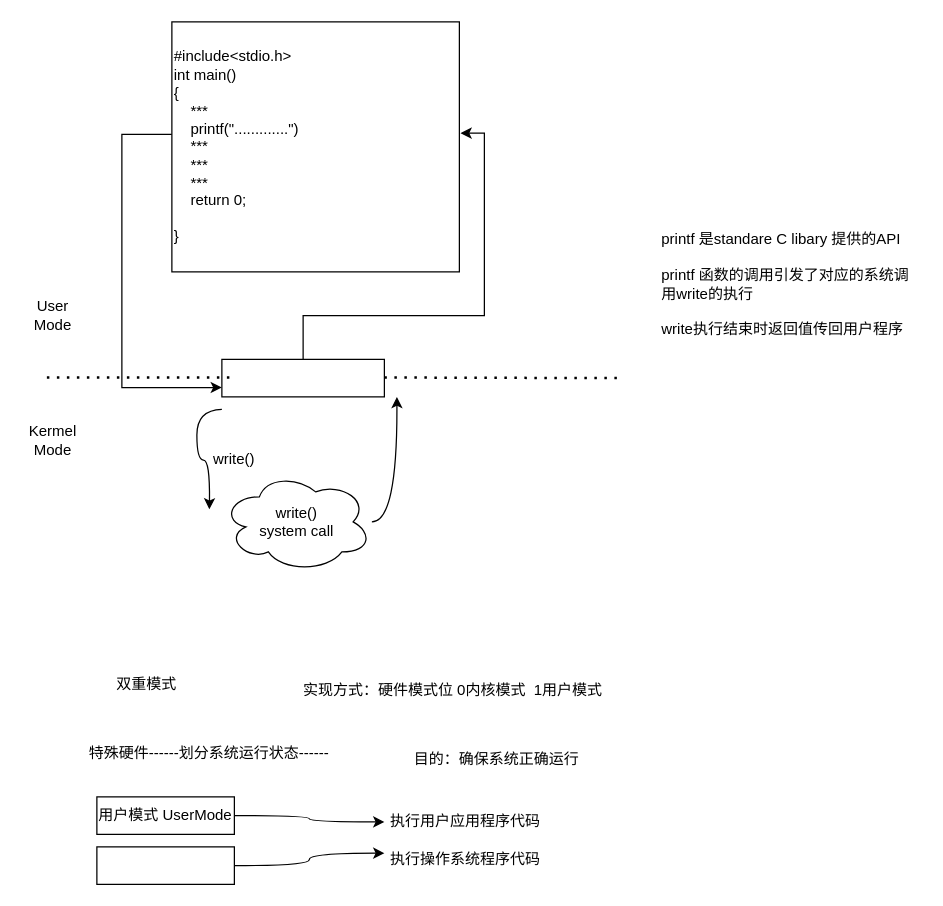
Some shapes in this 943 by 906 pixel diagram are drawn without their labels. The box of each missing label's shape, as (x1, y1, x2, y2) in pixels:
standard C libary: (221, 358, 384, 397)
内核模式 KermelMode: (96, 846, 234, 884)
